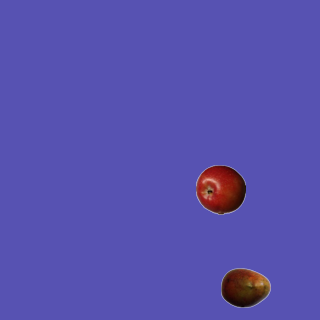Apple Braeburn: (195, 164, 245, 214)
Mango Red: (220, 262, 270, 312)
